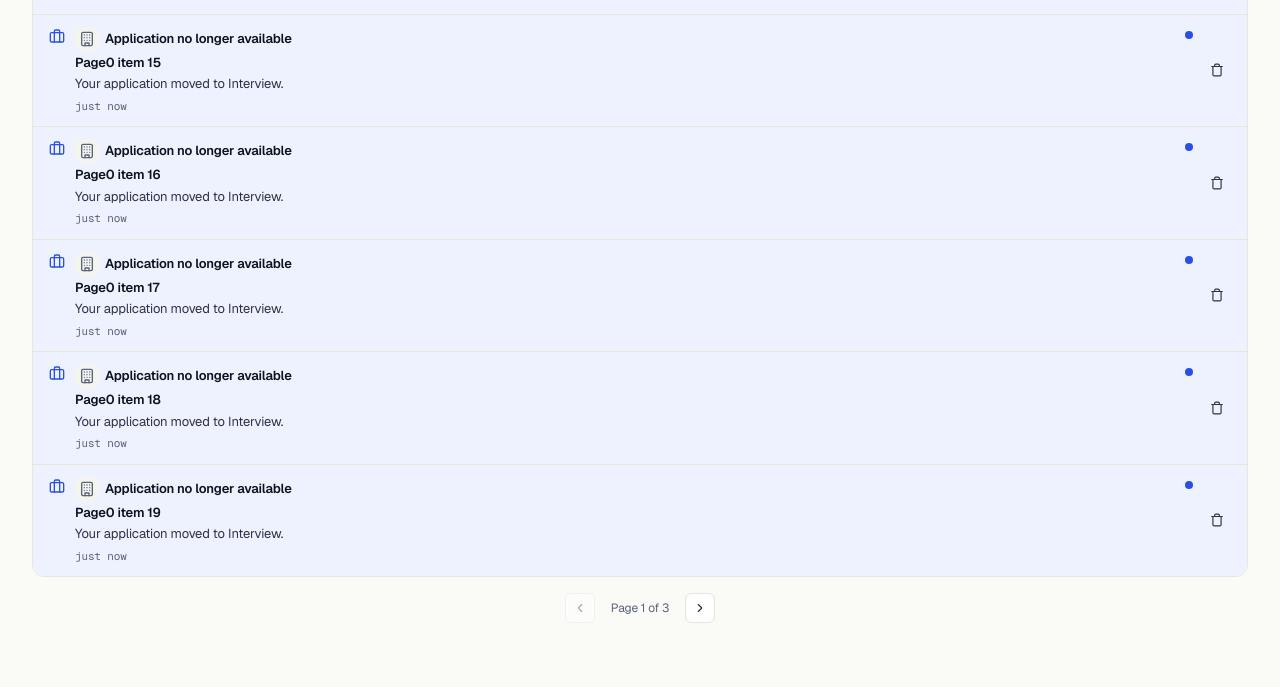
TC-NOTIF-PAGE-10..15: numbered pager › AC-7 explicit boundary: 45 items at size 20 -> 3 pages, and the last page renders exactly 5 rows
(page scrolled)
Expected: the element with test id "notifications-page-pager" is shown, [565, 593, 715, 623]
Expected: the text with test id "notifications-page-pager-indicator" shows "3", [662, 600, 669, 616]
Click the button with test id "notifications-page-pager-next": [700, 608] box [685, 593, 715, 623]
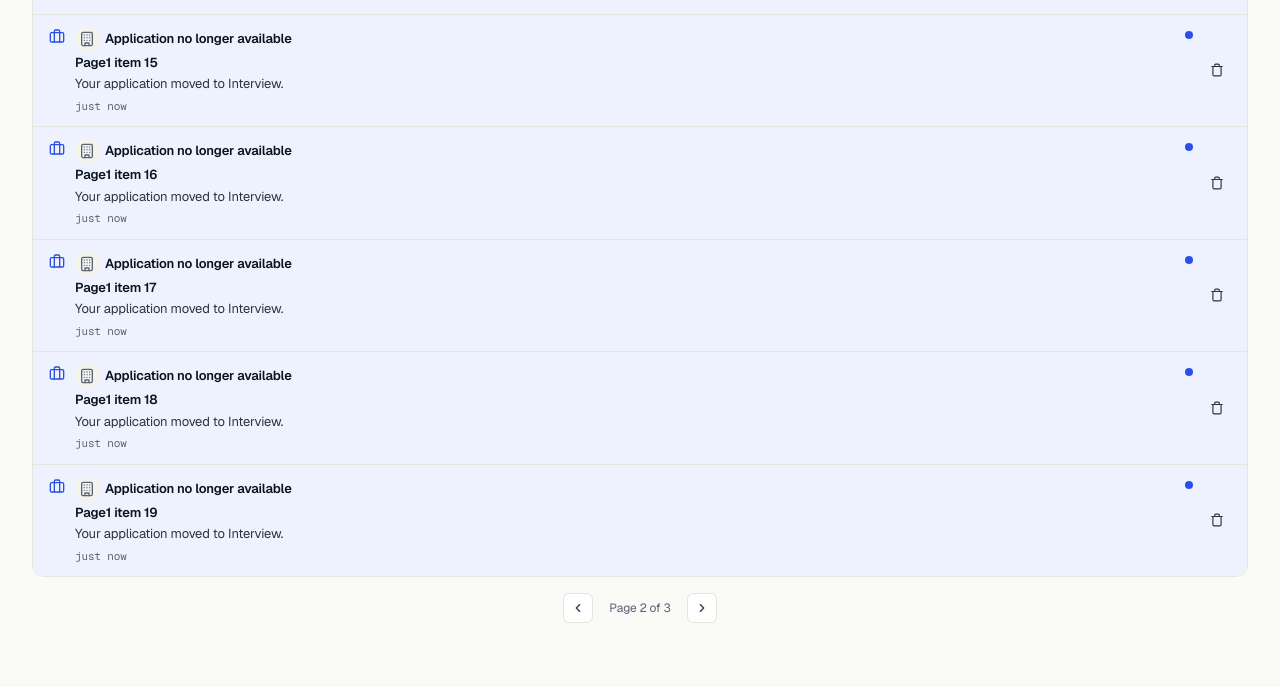
Click the button with test id "notifications-page-pager-next": [702, 608] box [687, 593, 717, 623]
(page scrolled)
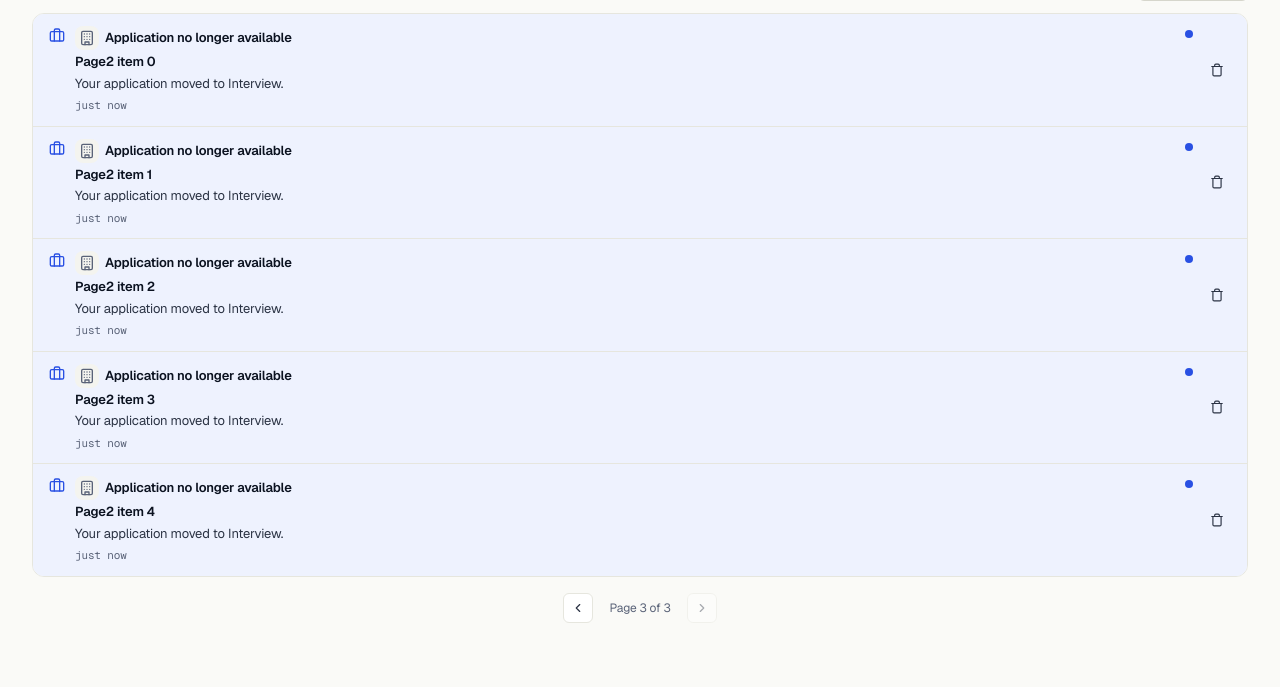
Expected: the text "Page2 item 0" is shown, [75, 53, 156, 70]
